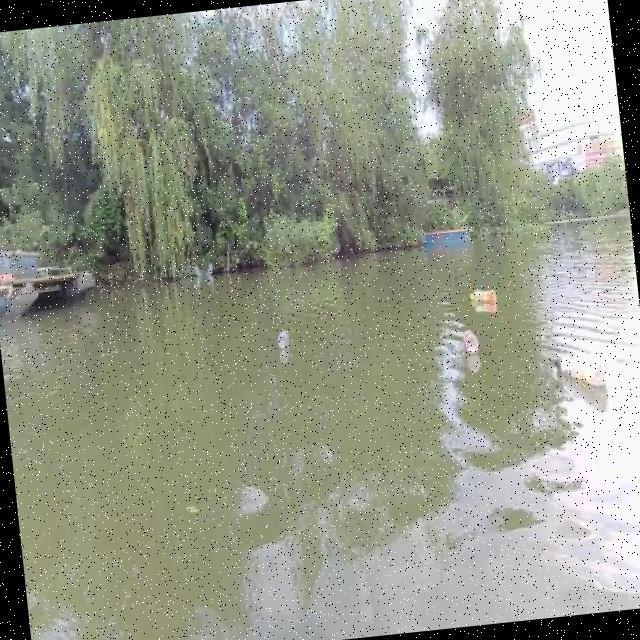Bottle: (468, 281, 502, 315), (268, 325, 296, 359), (460, 324, 482, 360)
